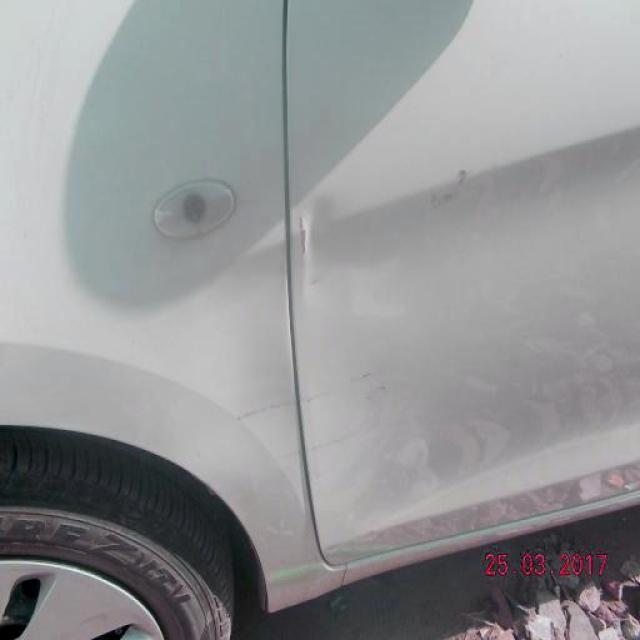car damage: (235, 367, 396, 429), (277, 416, 388, 469), (296, 211, 315, 272)
